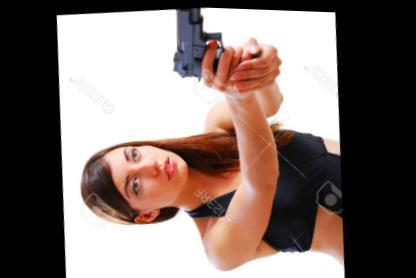pistol: (167, 5, 267, 84)
